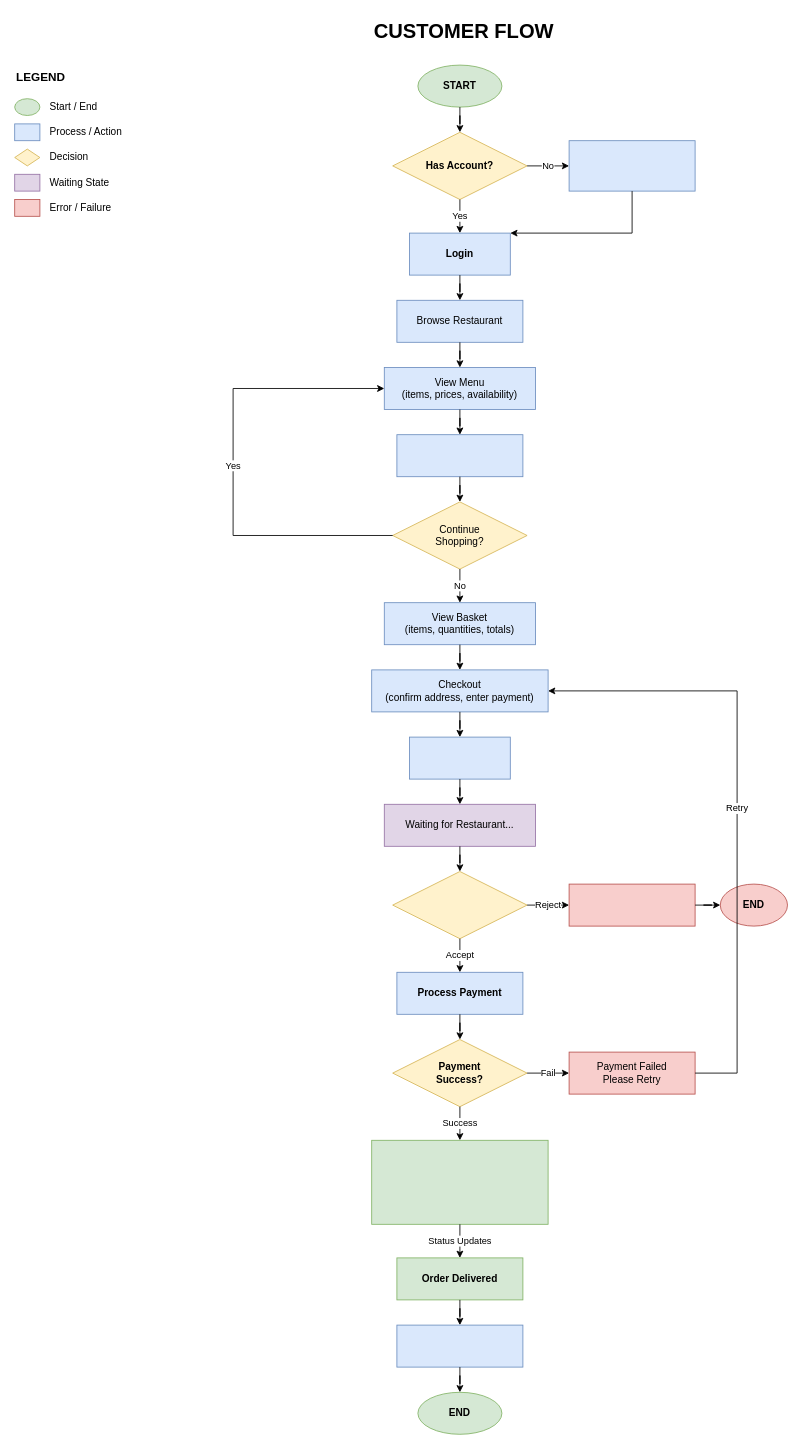
Image size: 802x1449. Some labels were removed from this diagram. Each missing label, with the centre of its shape:
"Add Items to Basket" belongs at (x=459, y=455).
"Order Could Not Be Fulfilled" belongs at (x=631, y=904).
"Order Tracking View ● Order Accepted ○ Preparing ○ Out for Delivery ○ Delivered" belongs at (x=459, y=1181).
"Place Order" belongs at (x=459, y=757).
"Register (username, password, address)" belongs at (x=631, y=165).
"Restaurant Accepts?" belongs at (x=459, y=905).
"View Order History" belongs at (x=459, y=1345).
